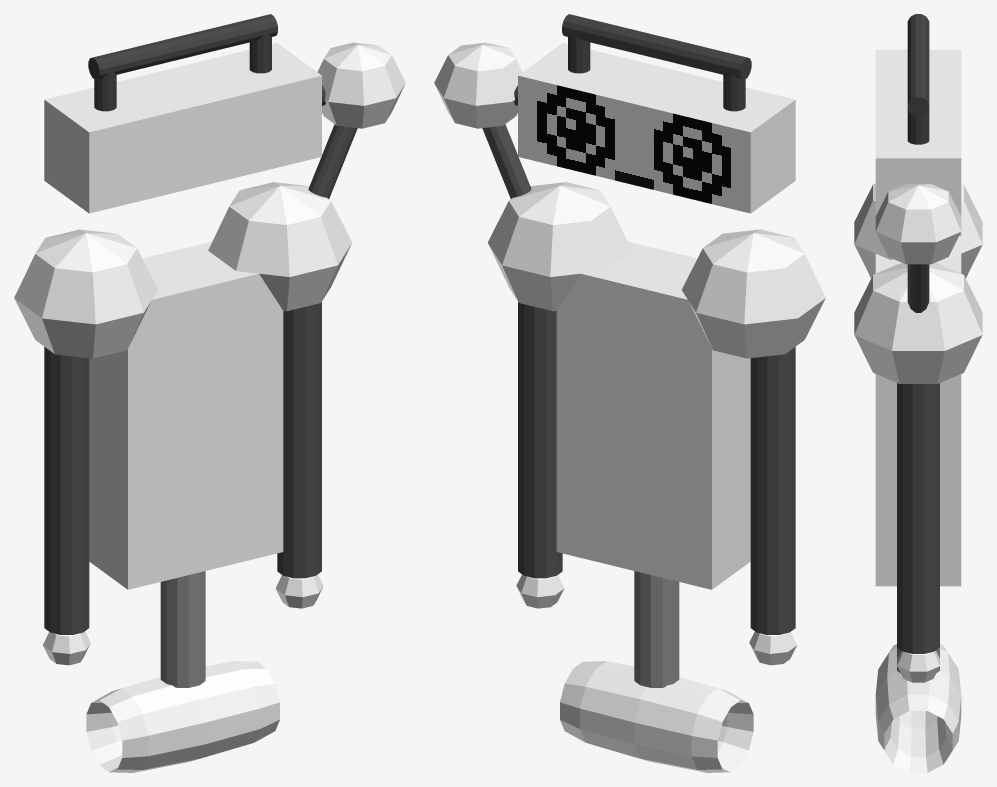
File: Proller.gltf
3 views of the same model, side by side, from view 1: azimuth 30°, elevation 25°; view 2: azimuth 150°, elevation 25°; view 3: azimuth 270°, elevation 25° (orthographic). The views are drawn at different scales.
Parts seen in each view (by area): view 1: mesh (×2), cylinder (×7), sphere (×5), torus; view 2: mesh (×2), cylinder (×7), sphere (×5), torus; view 3: sphere (×4), mesh (×2), cylinder (×4), torus.
Part boxes in pixels (x1,y1,x2,y2): mesh (×2): (44, 43, 321, 589); cylinder (×7): (44, 14, 357, 687); sphere (×5): (14, 42, 405, 665); torus: (86, 661, 279, 772); mesh (×2): (518, 43, 795, 589); cylinder (×7): (482, 14, 795, 687); sphere (×5): (434, 42, 825, 665); torus: (560, 661, 753, 772); sphere (×4): (854, 183, 982, 682); mesh (×2): (875, 49, 961, 586); cylinder (×4): (897, 14, 939, 653); torus: (875, 644, 961, 772).
Bounding box in the file's own units: 0.5938 × 1.11 × 0.1875.
Materials: 13 (13 with a texture image).
